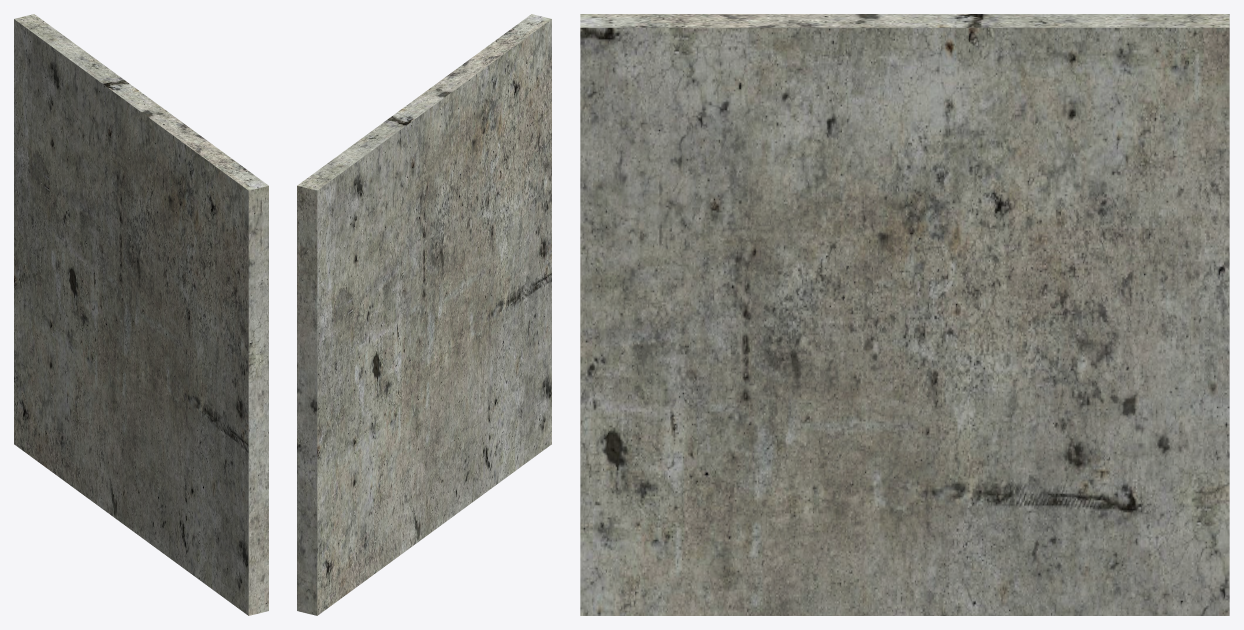
The model's file is wall_textured.obj.
3 renders of one model, left to right at view 1: azimuth 30°, elevation 25°; view 2: azimuth 150°, elevation 25°; view 3: azimuth 270°, elevation 25°, orthographic. The views are drawn at different scales.
Parts seen in each view (by area): view 1: Grid; view 2: Grid; view 3: Grid.
Boxes of the visible parts, x1=… form: Grid: x1=14, y1=14, x2=268, y2=615; Grid: x1=297, y1=14, x2=551, y2=615; Grid: x1=580, y1=14, x2=1229, y2=615.
Size of the model in its own units: 0.1 by 2 by 2.
